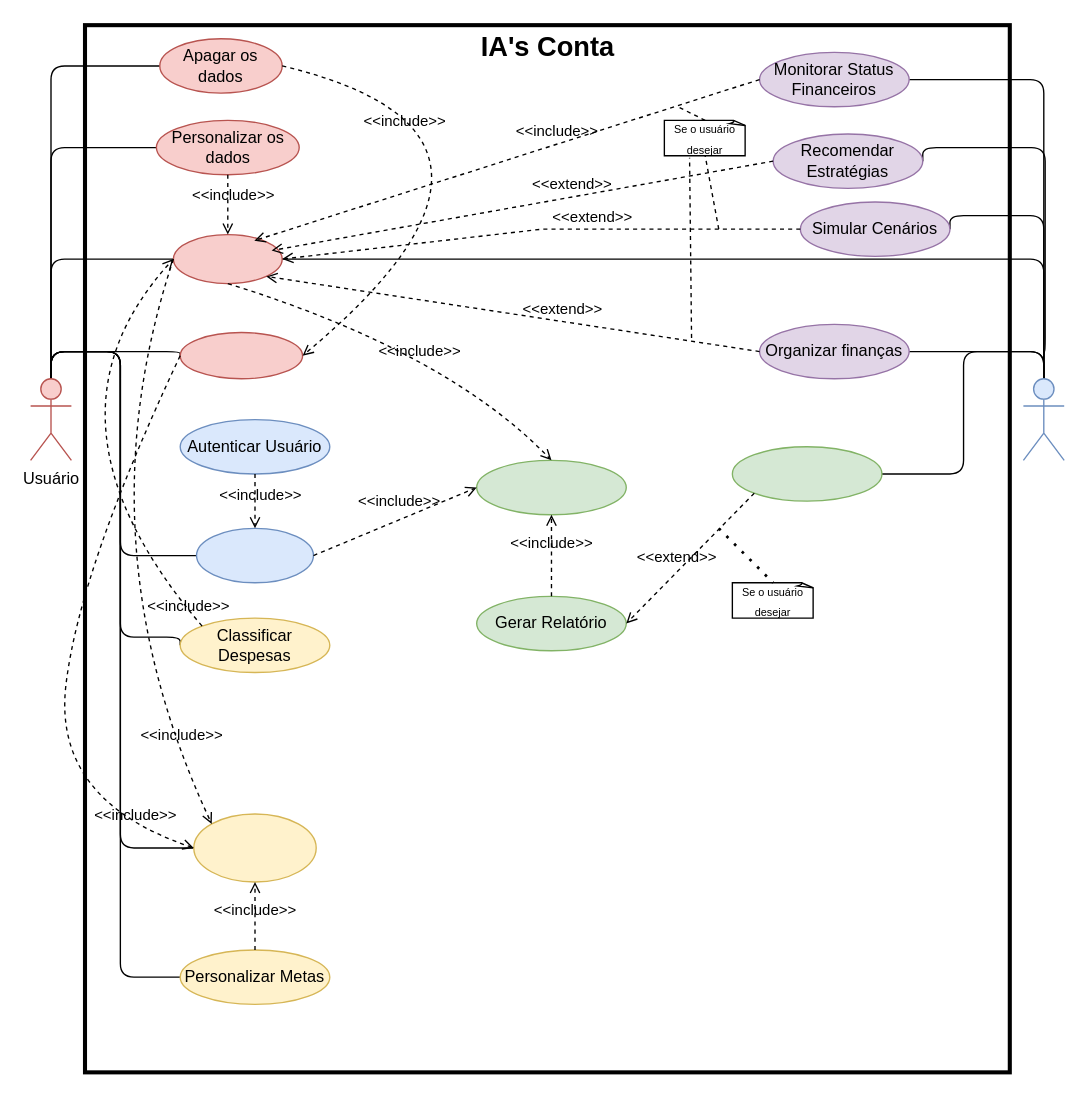
Image size: 1088x1098. Some labels were removed from this diagram. Each missing label, with the box of its shape:
Cadastrar usuários: (195, 527, 313, 583)
Criar os dados: (179, 331, 303, 379)
Exportar Planilhas: (731, 445, 882, 501)
IA: (1022, 377, 1064, 460)
Inserir dados financeiros: (192, 813, 316, 882)
Manter Histórico: (475, 459, 626, 515)
Ver os dados: (172, 233, 282, 284)
